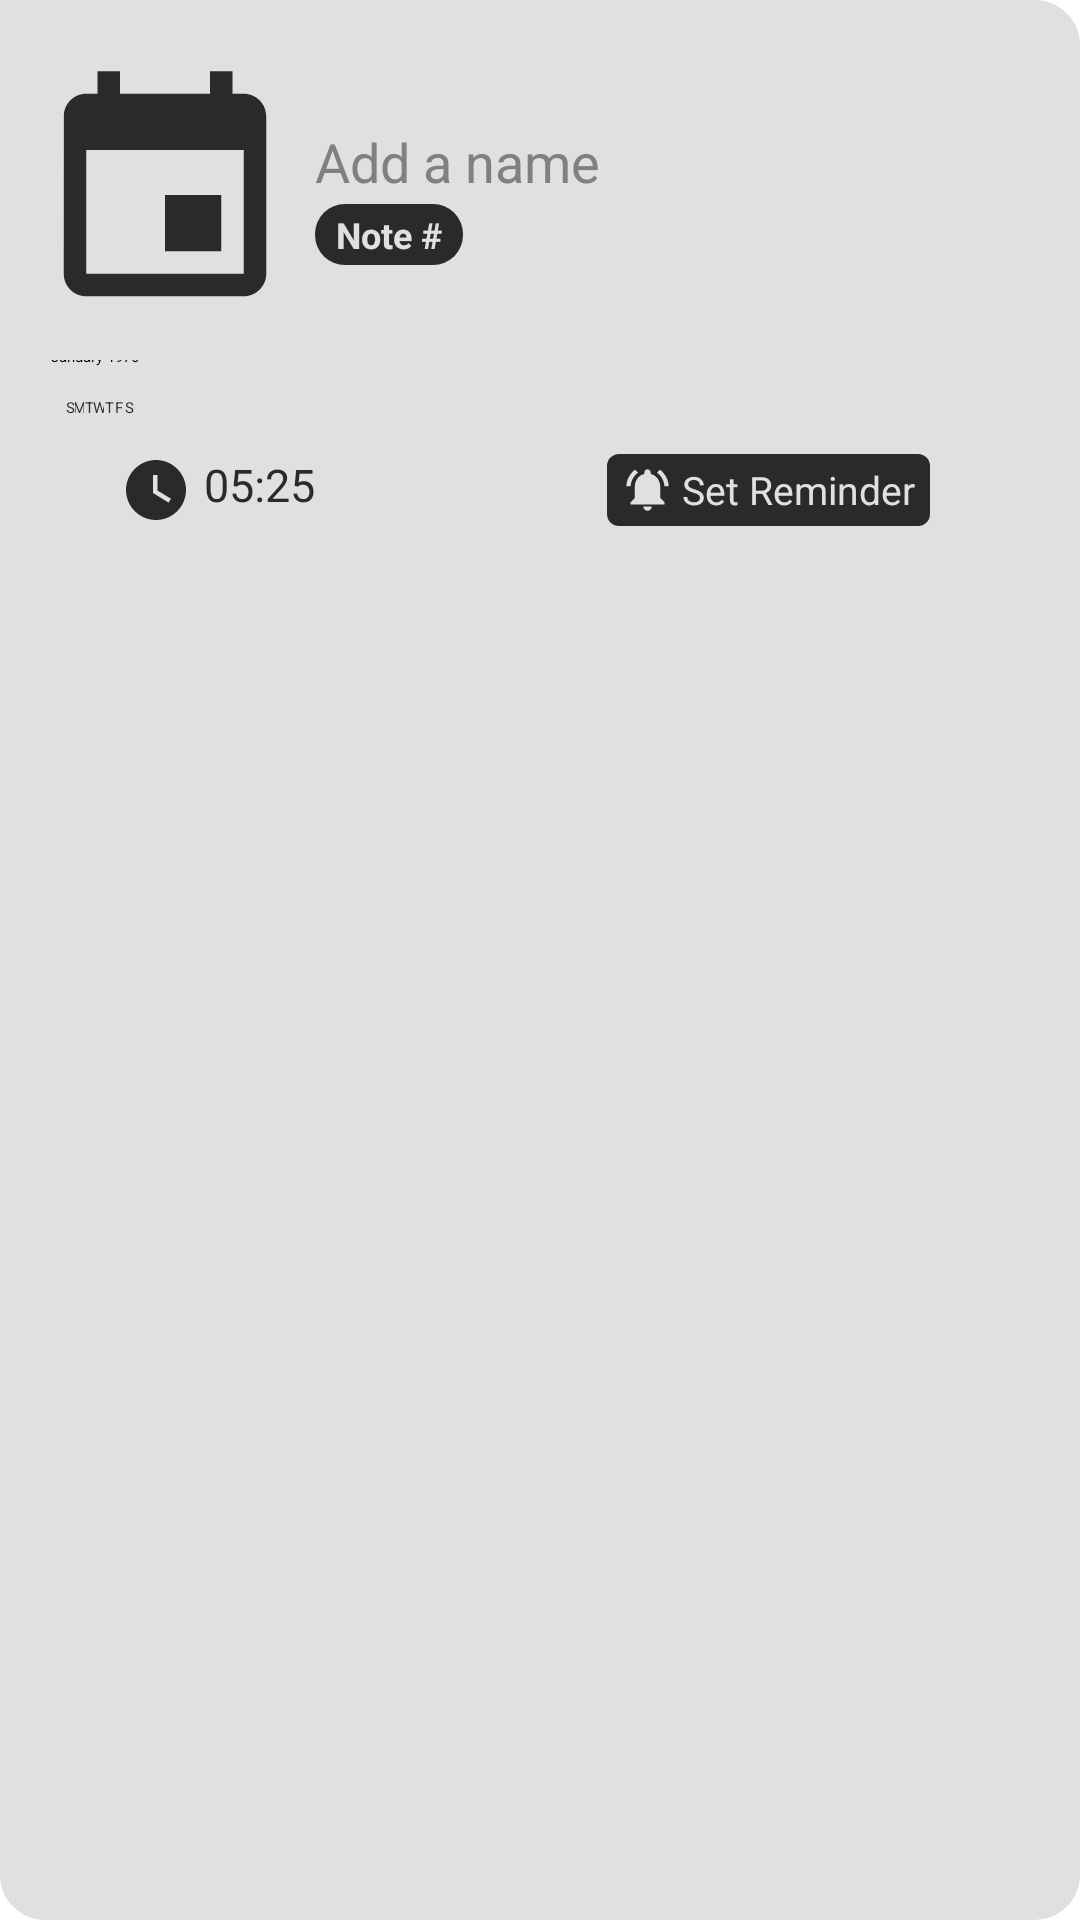

Icon bounding boxes for this 1080x1920 phone screenshot, format Rect(x1, y1, x2, y2):
alarm: Rect(626, 469, 669, 511)
clock: Rect(126, 460, 186, 520)
